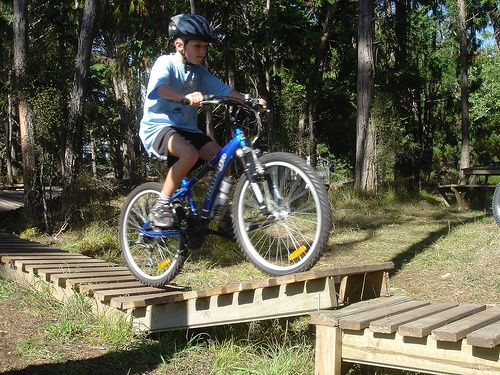head: (167, 13, 218, 65)
person: (134, 12, 257, 232)
